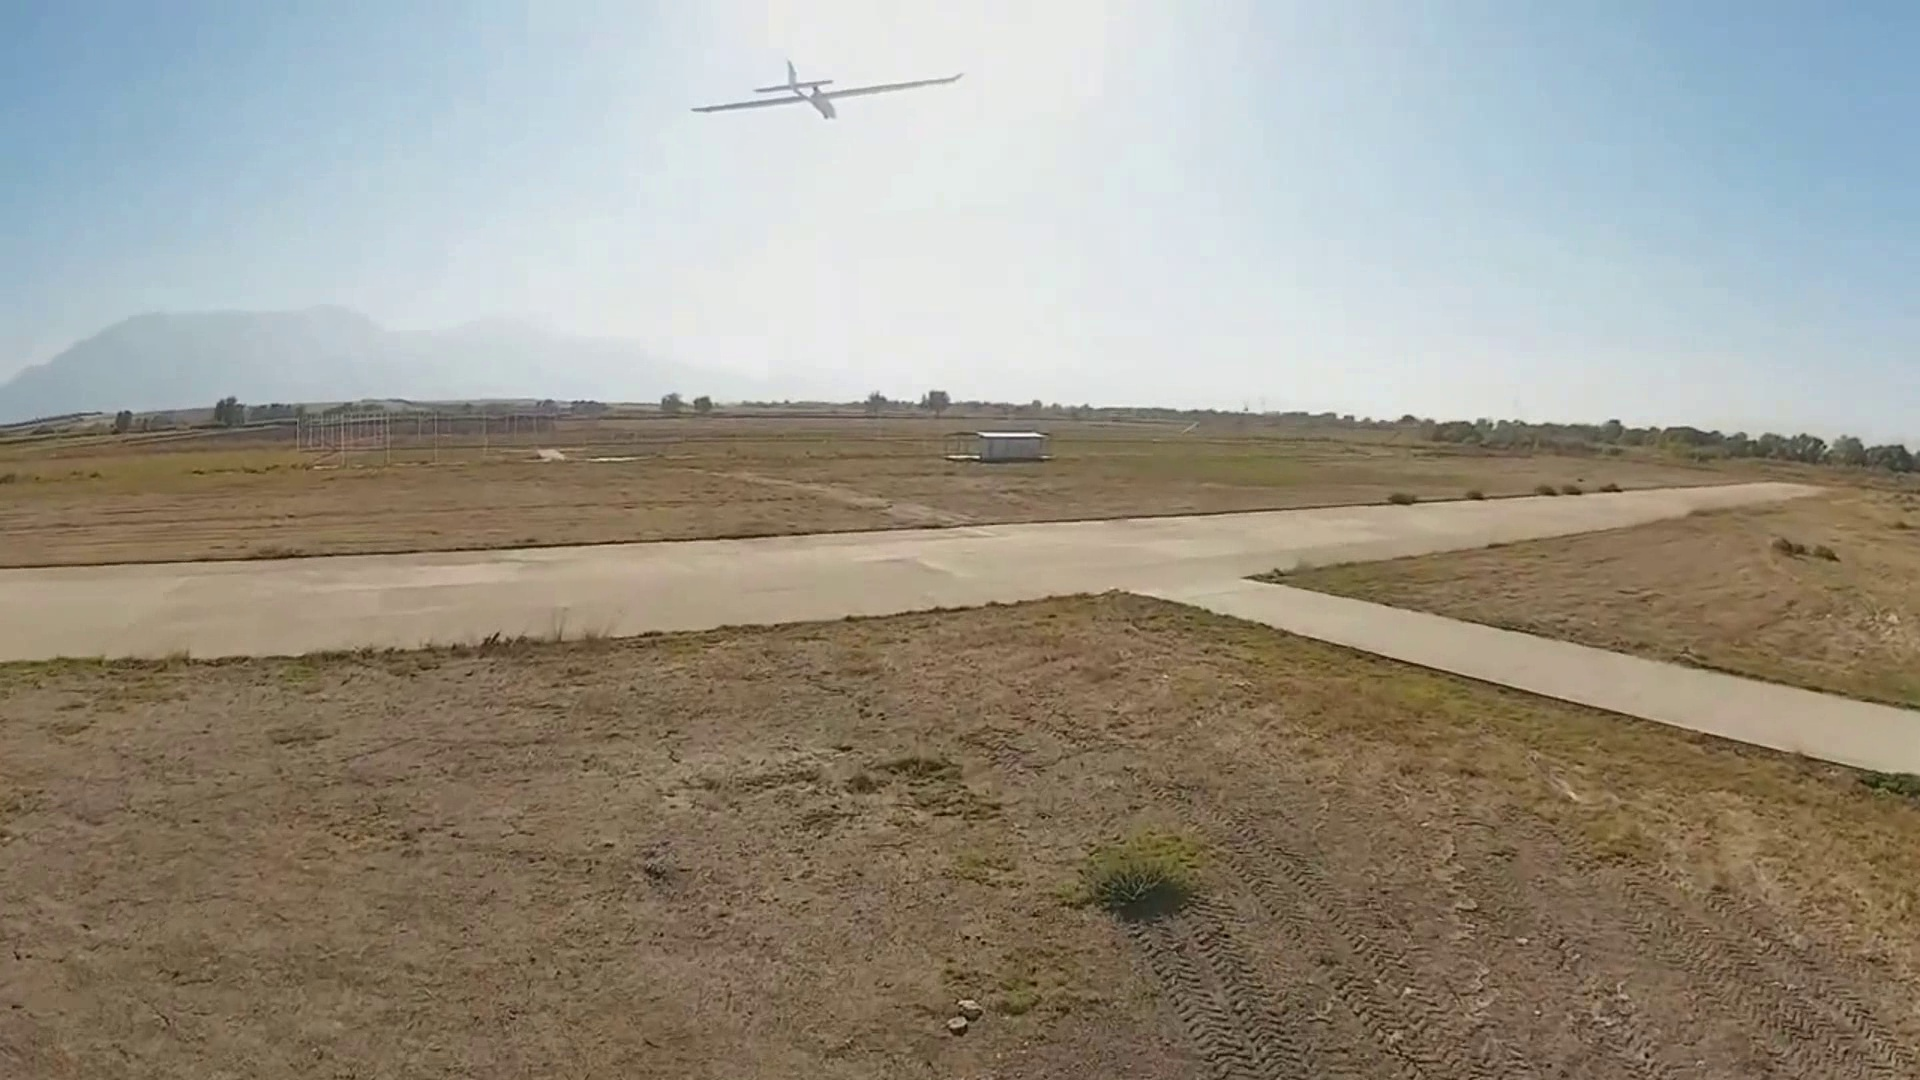airplane: (687, 59, 963, 121)
